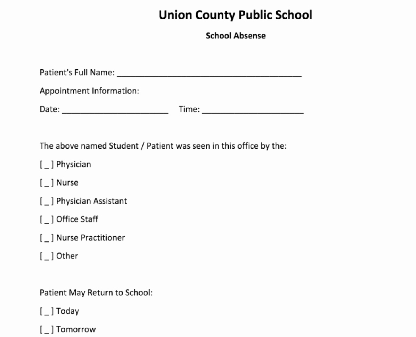checkbox: (38, 157, 55, 171), (39, 305, 55, 318), (38, 176, 55, 188), (38, 213, 55, 225), (38, 231, 55, 243), (39, 195, 55, 207), (39, 250, 55, 262), (39, 324, 55, 334)
textline: (114, 67, 305, 80), (60, 102, 171, 116), (201, 102, 305, 116)
